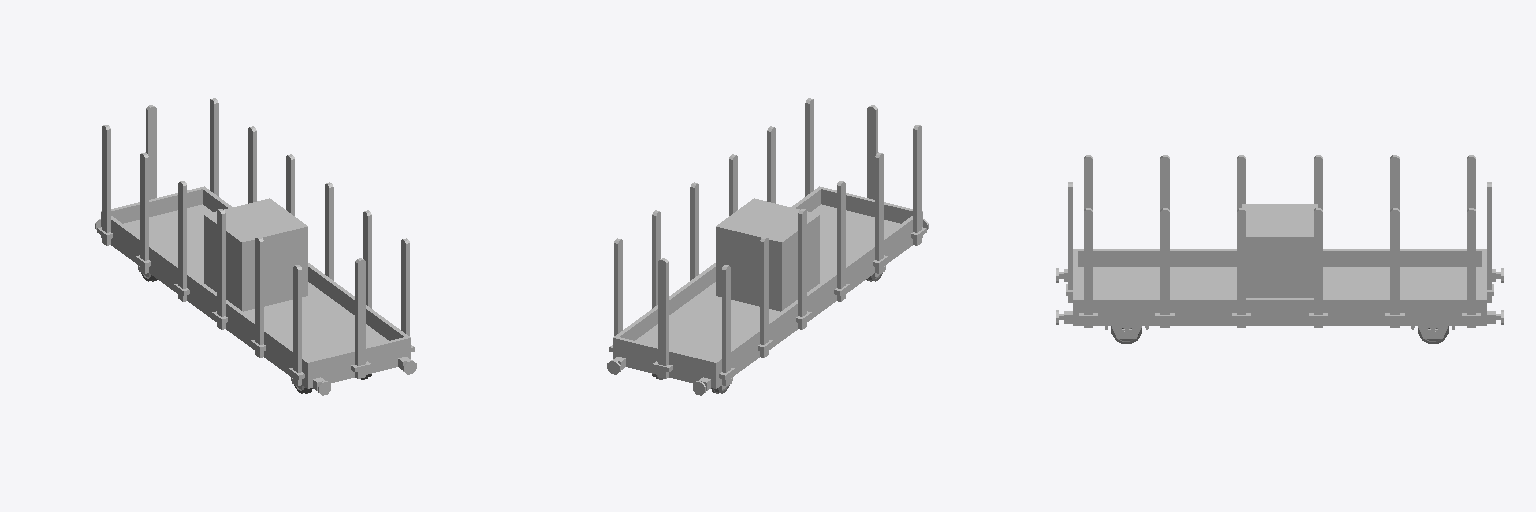
Rendered from dlxtrains_industrial_wagons_stake_type1_loaded1.obj.
3 views of the same model, side by side, from view 1: azimuth 30°, elevation 25°; view 2: azimuth 150°, elevation 25°; view 3: azimuth 270°, elevation 25° (orthographic).
Parts seen in each view (by area): view 1: dlxtrains_industrial_wagons_stake_type1_loaded1; view 2: dlxtrains_industrial_wagons_stake_type1_loaded1; view 3: dlxtrains_industrial_wagons_stake_type1_loaded1.
Boxes of the visible parts, box(x1,y1,x2,y2) form: dlxtrains_industrial_wagons_stake_type1_loaded1: box(95, 98, 416, 395); dlxtrains_industrial_wagons_stake_type1_loaded1: box(607, 98, 928, 395); dlxtrains_industrial_wagons_stake_type1_loaded1: box(1056, 155, 1503, 343).
Size of the model in its own units: 17.5 by 21.11 by 58.38.